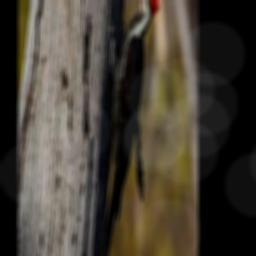Woodpecker: (101, 0, 159, 256)
